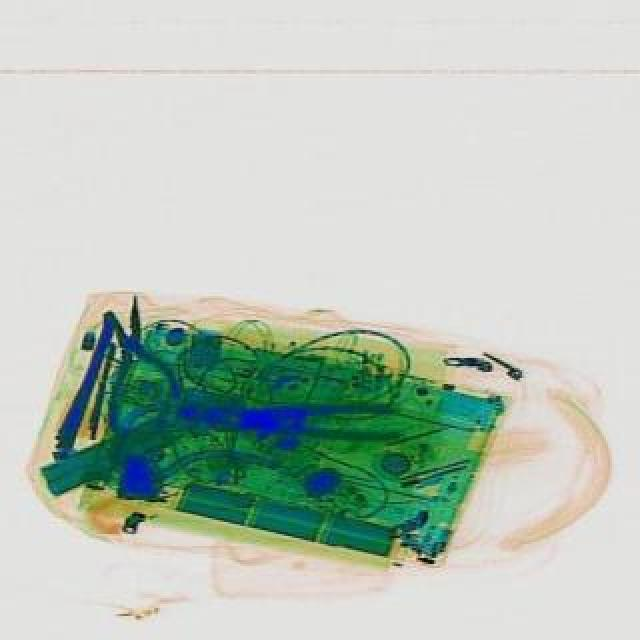wrench: (78, 288, 186, 428), (238, 400, 396, 440)
